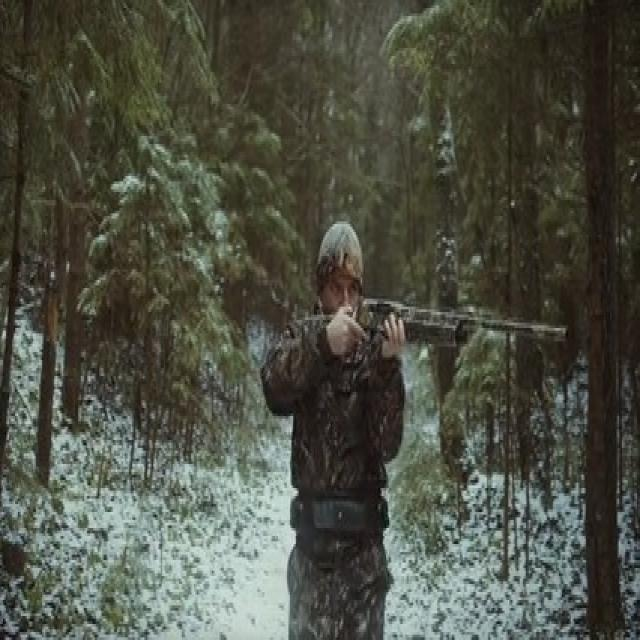Gun_Holder: (327, 297, 572, 388)
Person: (262, 210, 406, 640)
